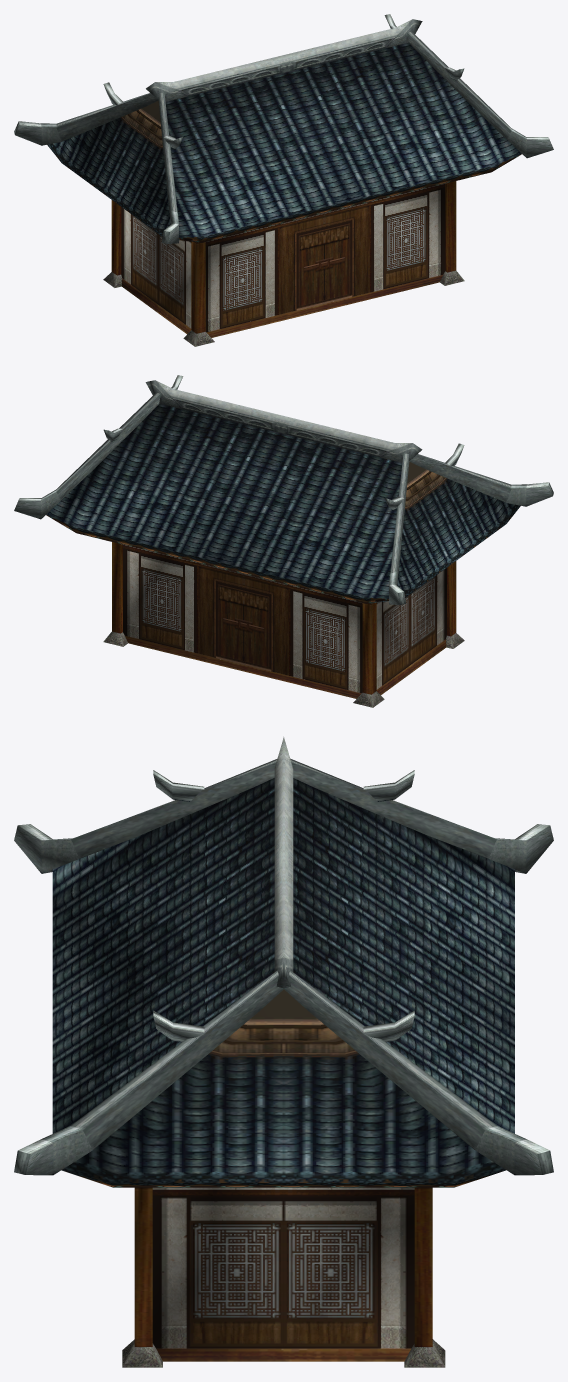
File: b1-016-house9_lod_01.fbx
The picture shows the model from 3 angles, top to bottom: view 1: azimuth 30°, elevation 25°; view 2: azimuth 150°, elevation 25°; view 3: azimuth 270°, elevation 25°; orthographic projection. The views are drawn at different scales.
Visible parts, largest first — view 1: b1-016-house9; view 2: b1-016-house9; view 3: b1-016-house9.
Part boxes in pixels (x1,y1,x2,y2): b1-016-house9: (14, 14, 553, 346); b1-016-house9: (14, 375, 553, 707); b1-016-house9: (14, 737, 553, 1367).
Bounding box in the file's own units: 12.38 × 6.95 × 8.41.
